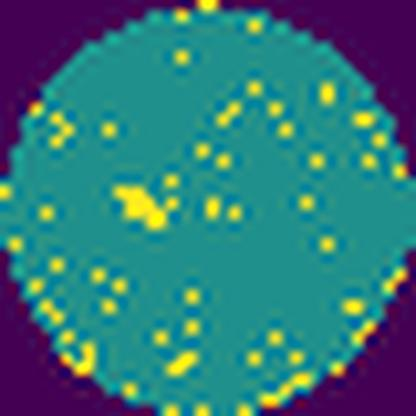Loc: (108, 180, 172, 230)
